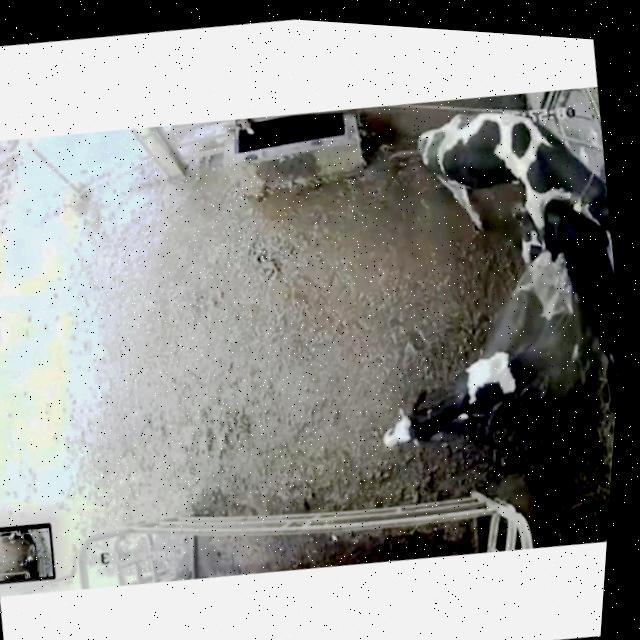ride: (388, 81, 625, 294)
